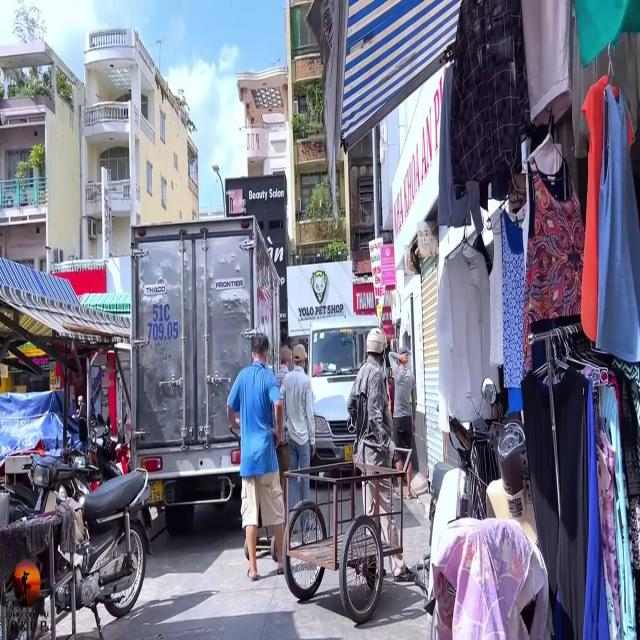bien_vang: (143, 475, 167, 504), (344, 442, 358, 464)
